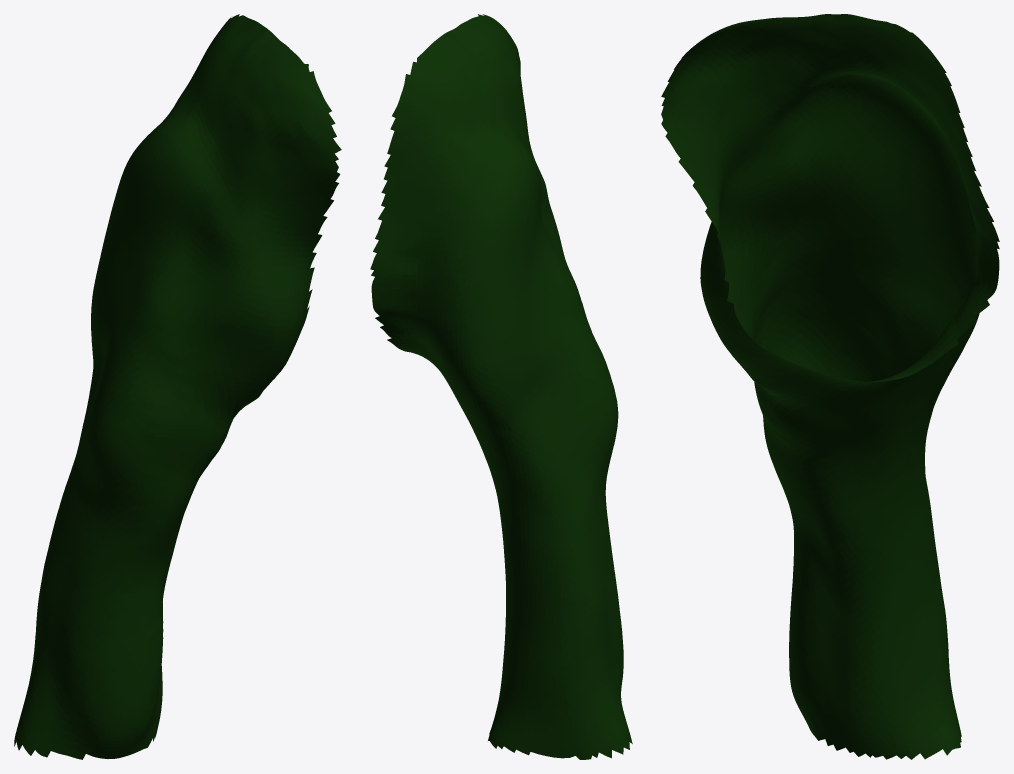
Rendered from upperA.obj.
3 renders of one model, left to right at view 1: azimuth 30°, elevation 25°; view 2: azimuth 150°, elevation 25°; view 3: azimuth 270°, elevation 25°, orthographic. The views are drawn at different scales.
Visible parts, largest first — view 1: alien_11:alien; view 2: alien_11:alien; view 3: alien_11:alien.
Boxes of the visible parts, bbox=[...] form: alien_11:alien: bbox=[14, 14, 341, 759]; alien_11:alien: bbox=[370, 14, 632, 759]; alien_11:alien: bbox=[661, 14, 999, 759].
Size of the model in its own units: 0.6639 by 1.93 by 0.7409.
